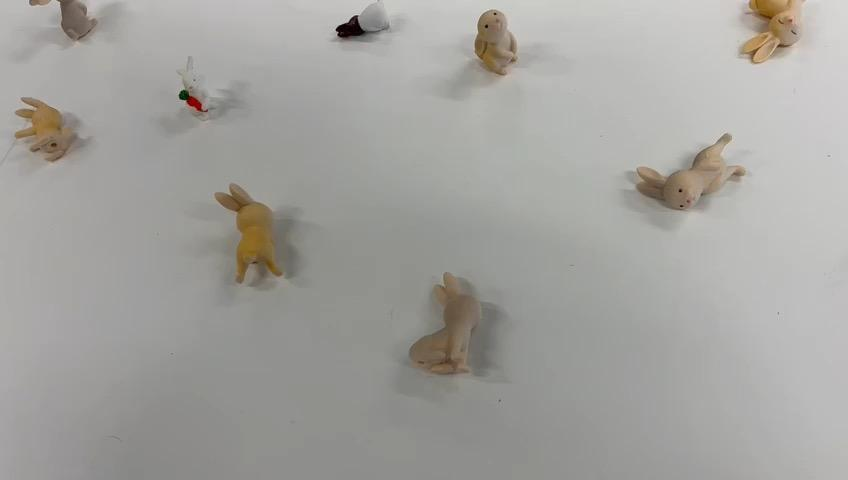pet: (641, 120, 755, 244), (401, 250, 499, 383), (159, 58, 270, 152), (218, 168, 290, 277), (736, 3, 825, 91), (13, 73, 78, 171), (463, 0, 526, 84), (333, 3, 408, 70), (18, 3, 114, 50)
